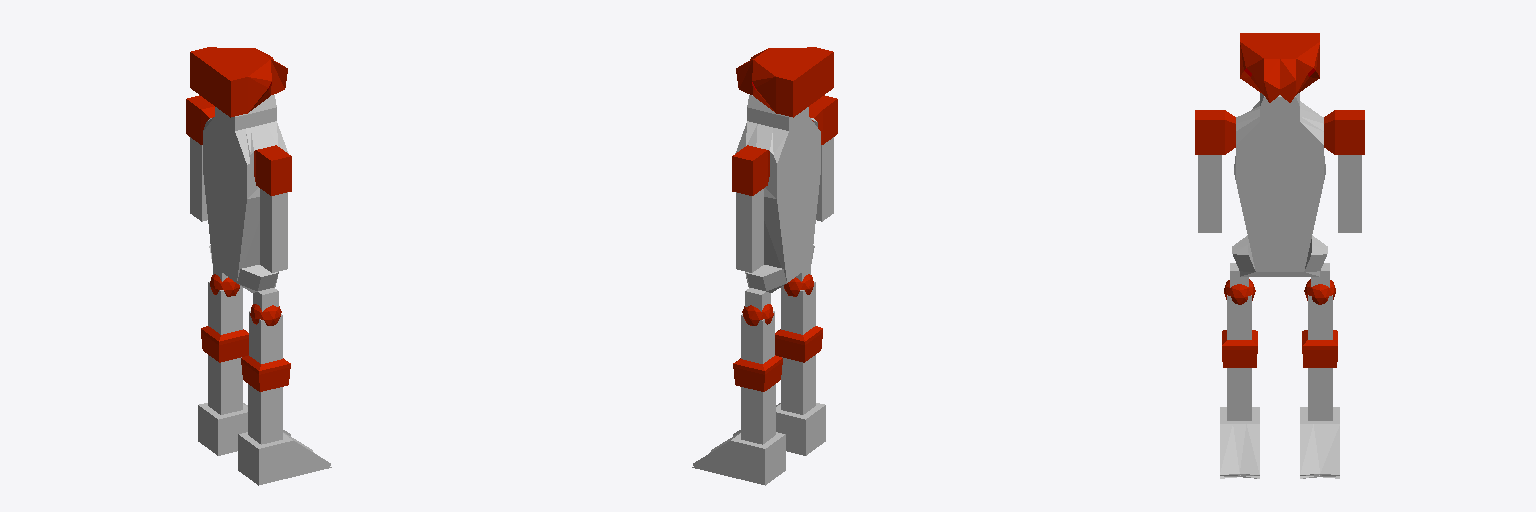
Rendered from robo1.obj.
3 renders of one model, left to right at view 1: azimuth 30°, elevation 25°; view 2: azimuth 150°, elevation 25°; view 3: azimuth 270°, elevation 25°, orthographic.
Visible parts, largest first — view 1: Cube; view 2: Cube; view 3: Cube.
Boxes of the visible parts, x1,y1,x2,y2 form: Cube: [186, 47, 331, 485]; Cube: [692, 47, 837, 485]; Cube: [1195, 33, 1364, 478].
Size of the model in its own units: 1.41 by 5.93 by 2.28.